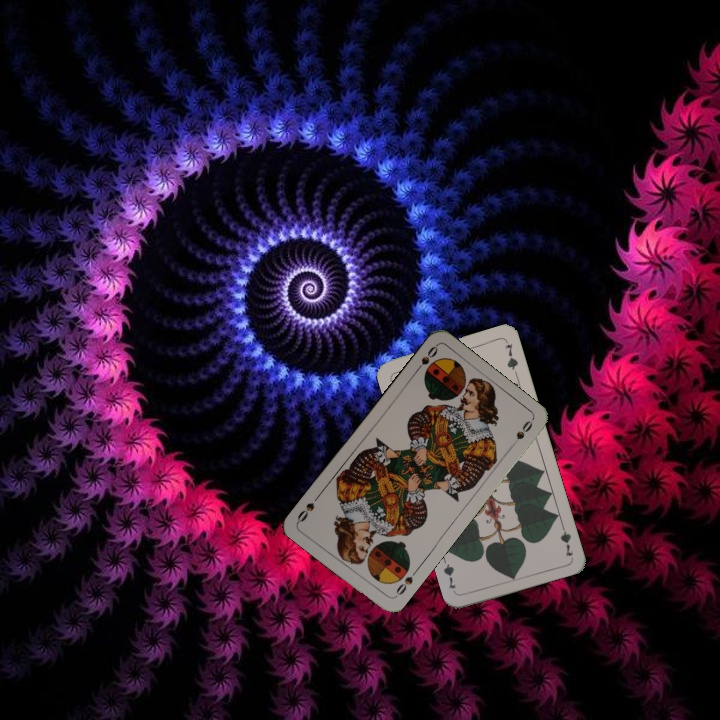G7: (556, 519, 576, 559)
SO: (410, 342, 441, 376), (390, 566, 420, 600)
